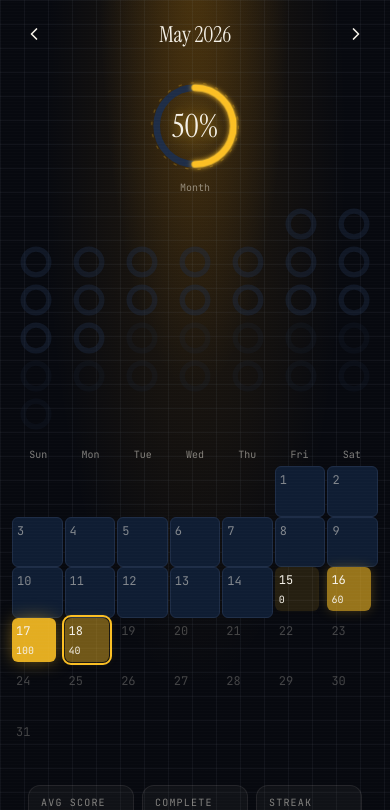
Test: C-m9c-010: MonthView — prev/next month navigation including year boundary › 'Next month' button advances to June 2026
The width and height of the screenshot is (390, 810).
Step 1. Click the button named "Next month" → (356, 34), box [334,12,378,56]
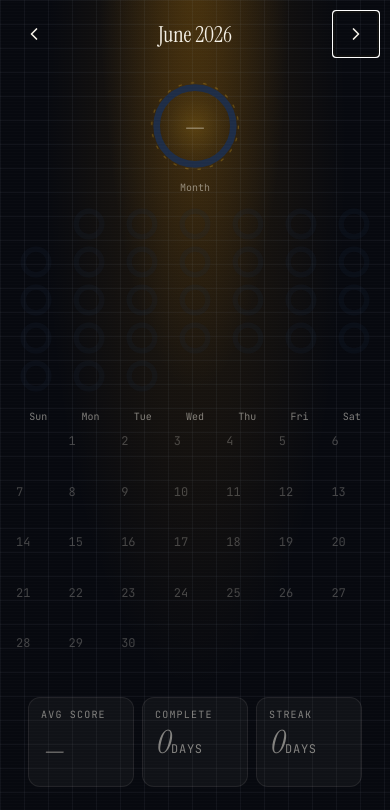
Now the heading "June 2026" is shown, box [158,18,232,50]
